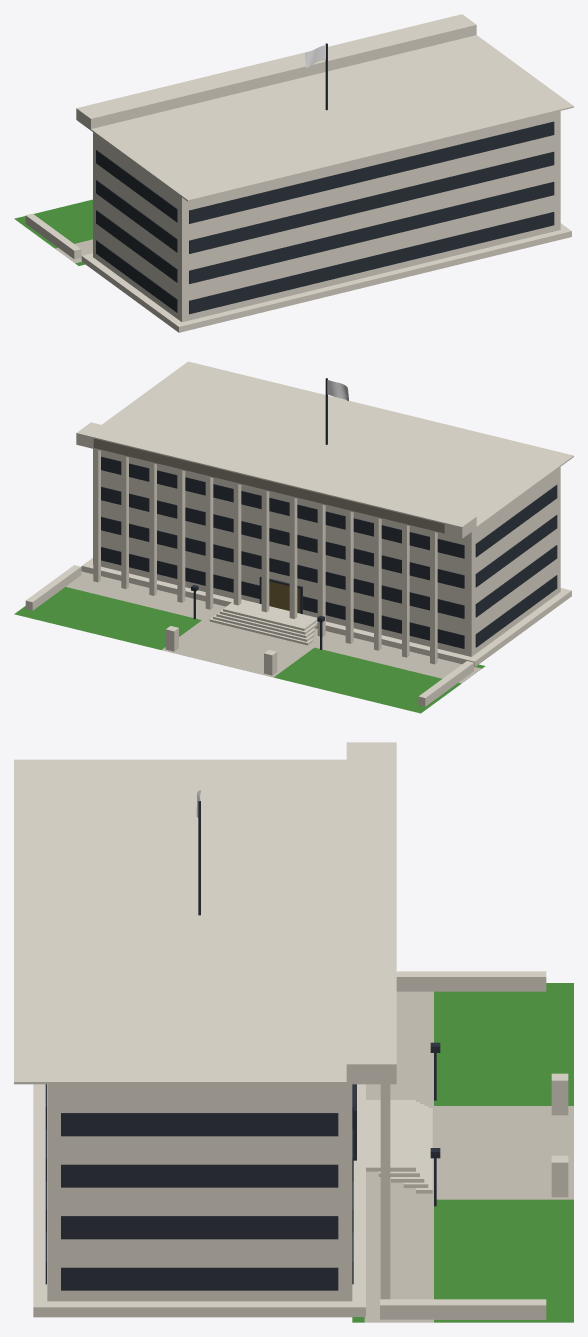
File: plateau-tribunal.glb
3 views of the same model, one above another, from view 1: azimuth 30°, elevation 25°; view 2: azimuth 150°, elevation 25°; view 3: azimuth 270°, elevation 25° (orthographic). The views are drawn at different scales.
Bounding box in the file's own units: 58 × 28 × 40.4.
